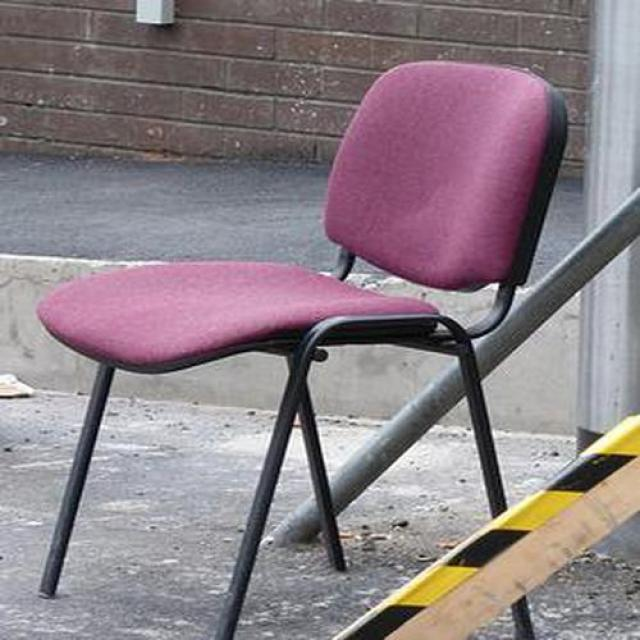chair: (33, 61, 567, 640)
